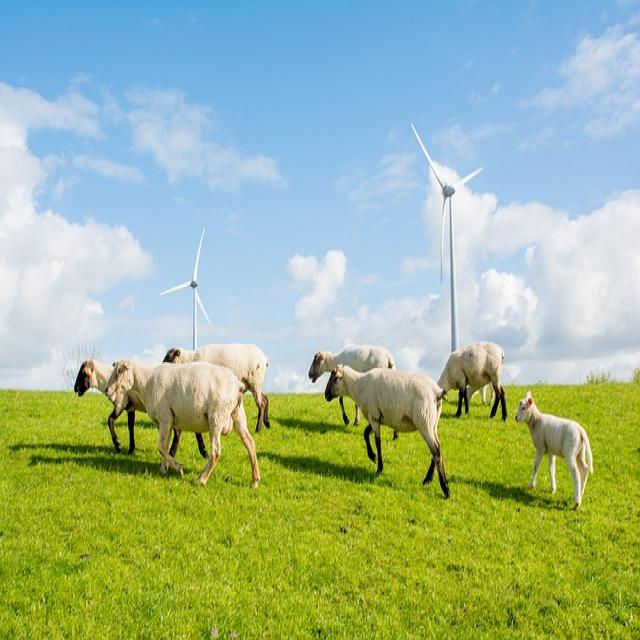goat: (105, 361, 254, 487), (325, 365, 450, 497), (515, 395, 595, 509), (168, 344, 270, 427), (437, 343, 506, 421), (308, 346, 394, 379), (74, 361, 107, 398)
